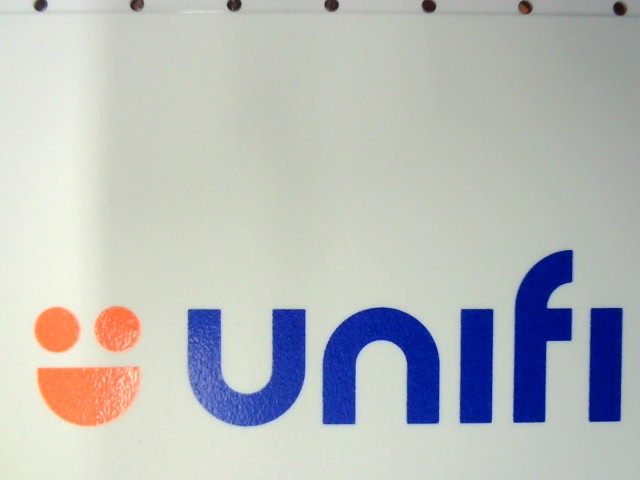BN_unifi: (20, 246, 628, 440)
